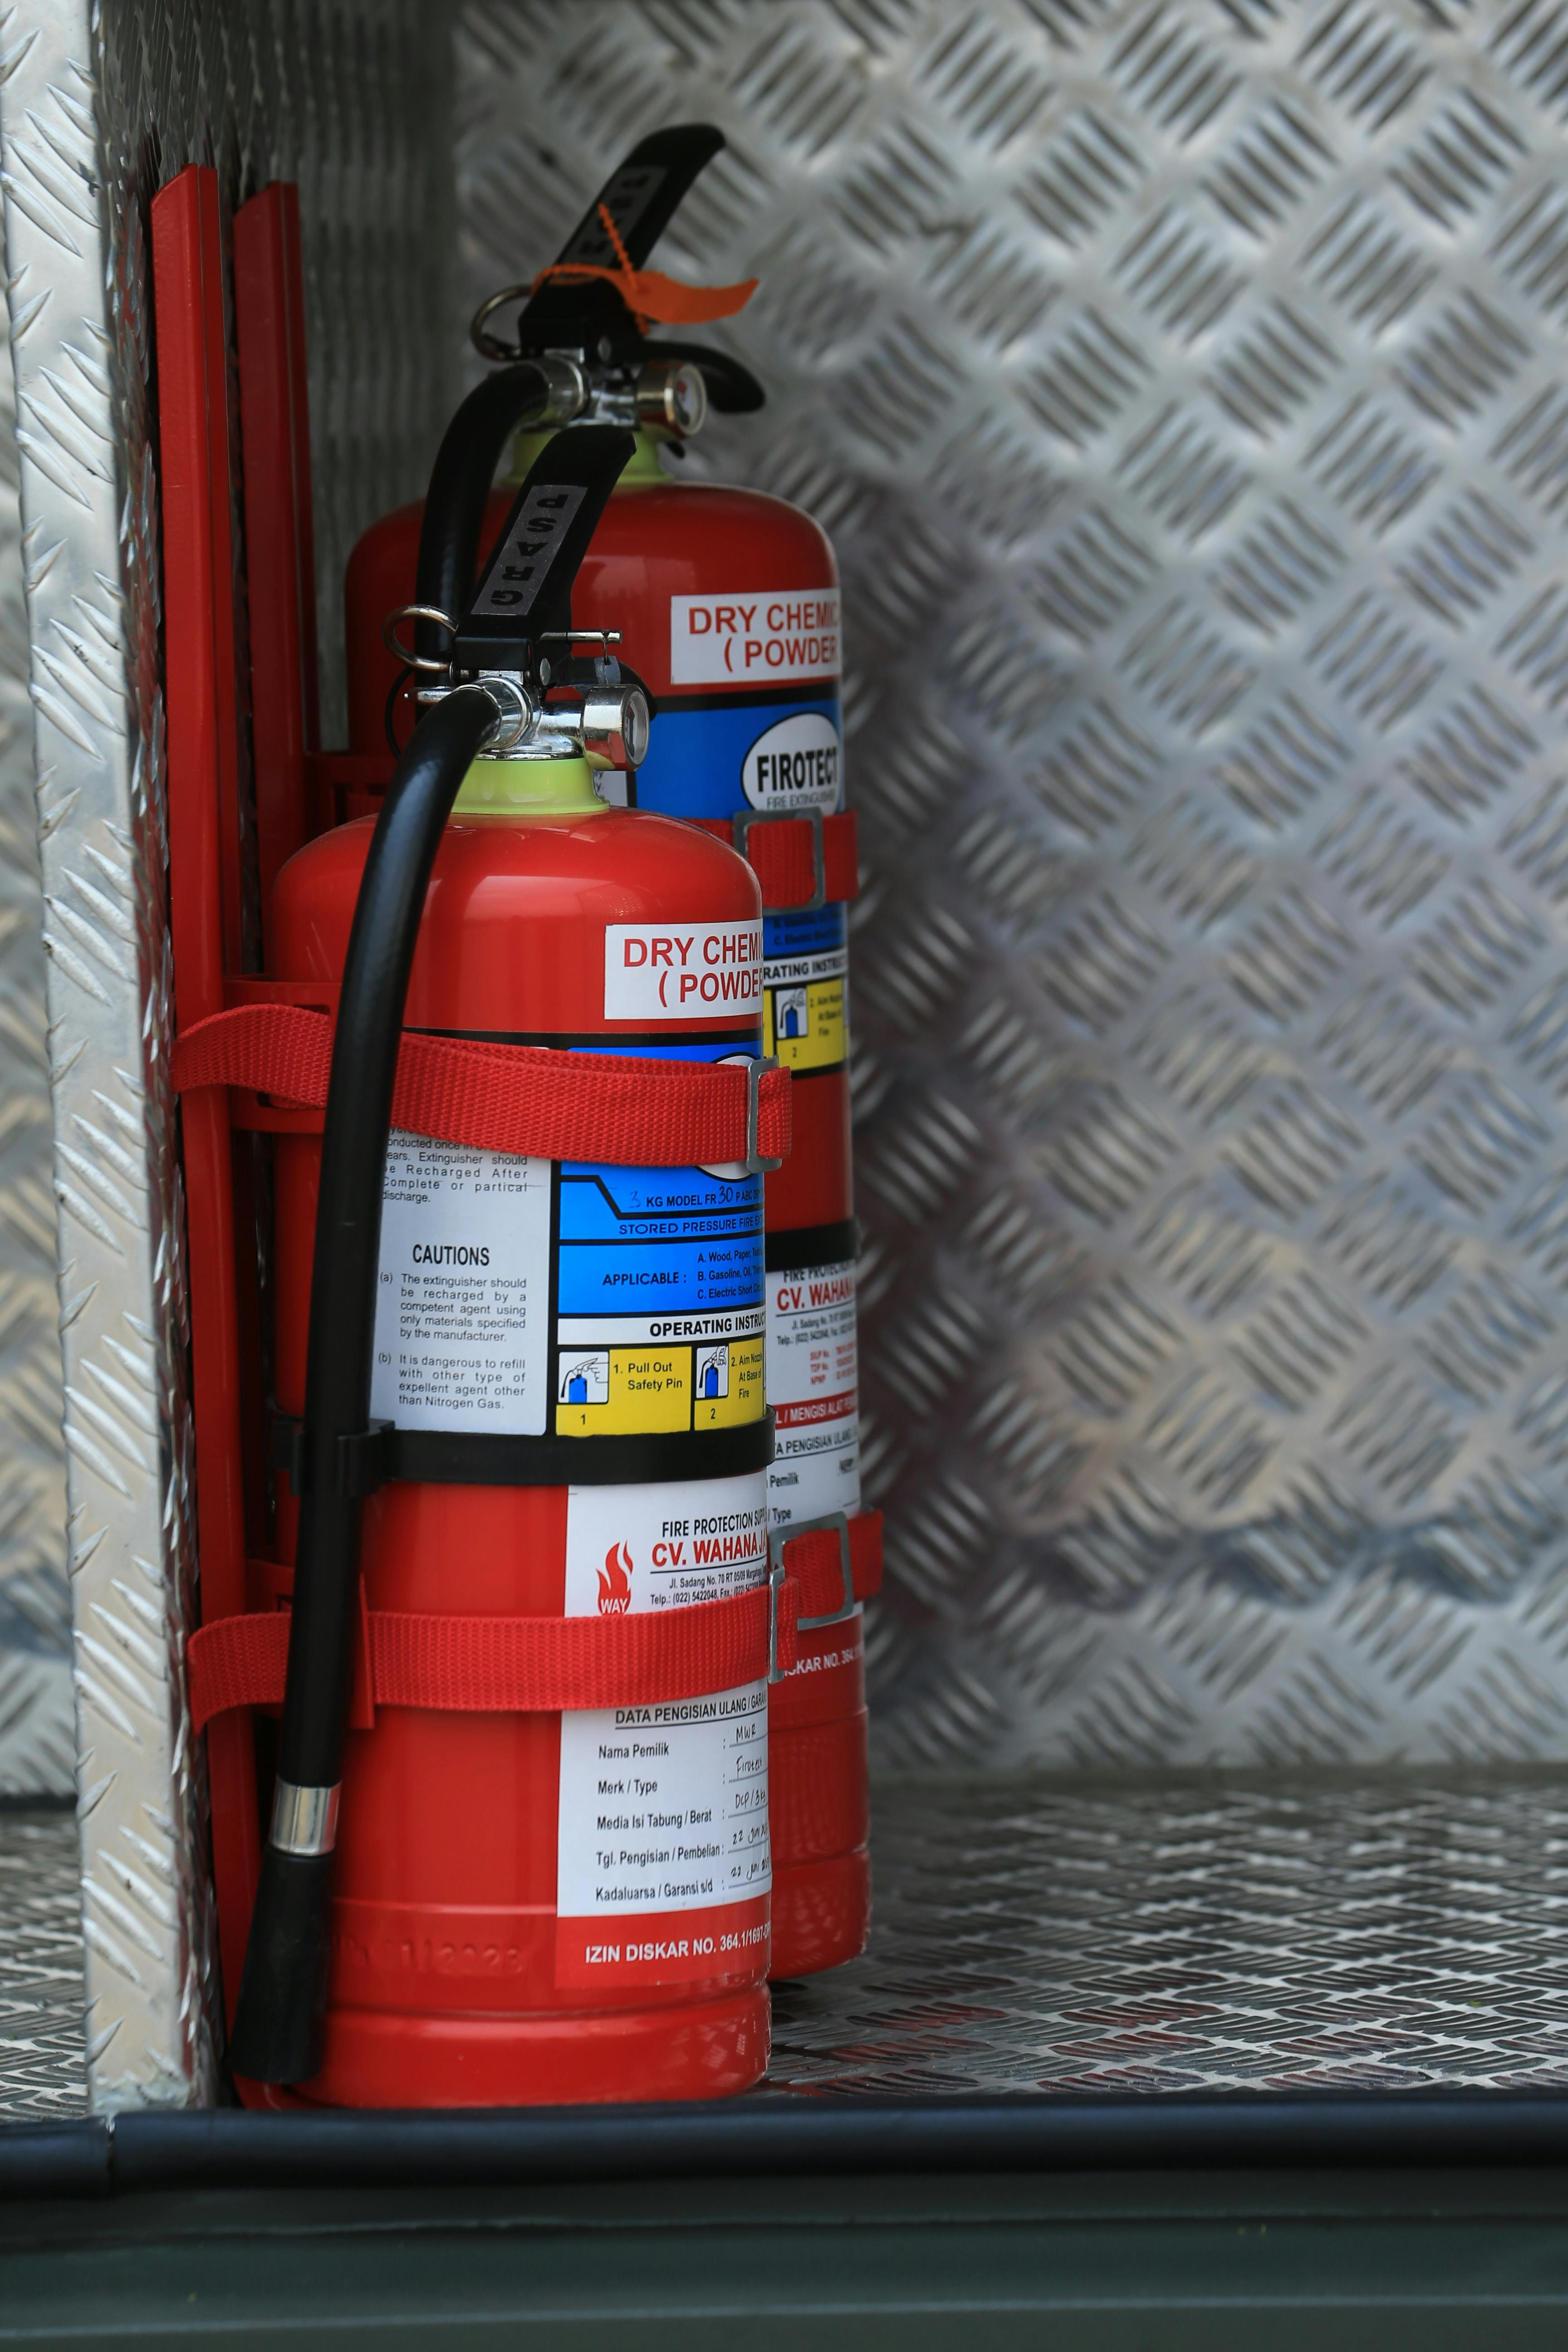extintor: (154, 413, 805, 2119), (320, 105, 892, 1988)
